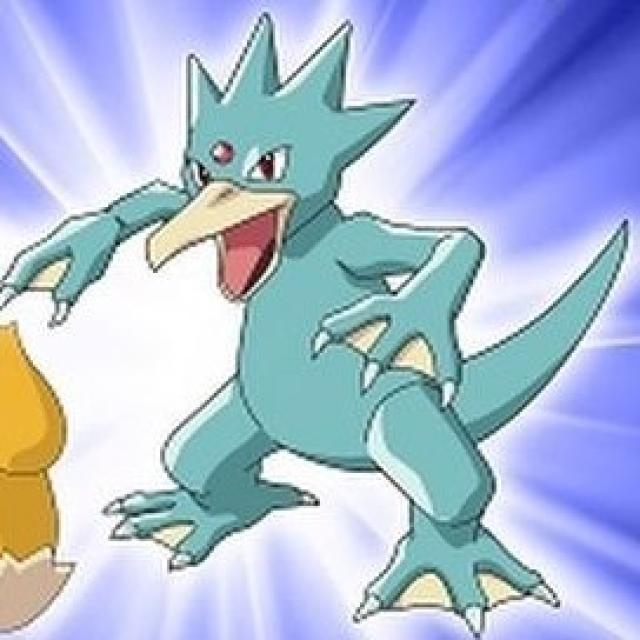Golduck: (133, 15, 533, 535)
